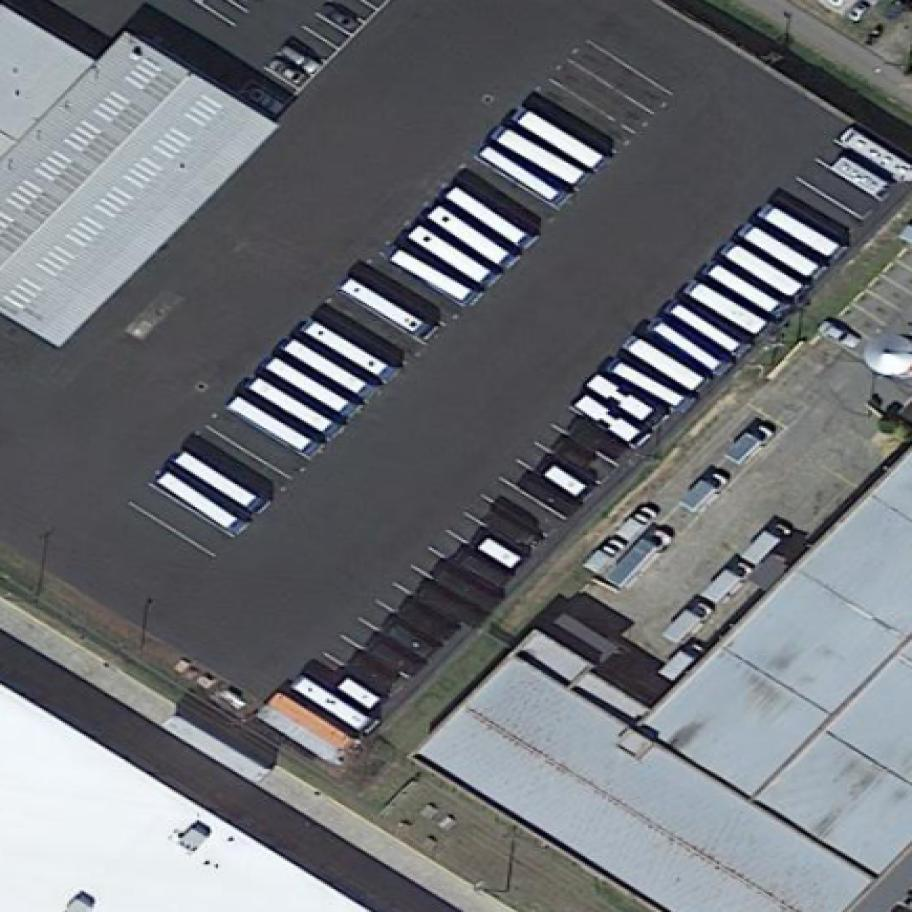large-vehicle: (509, 102, 607, 174), (491, 121, 590, 190), (299, 316, 396, 385), (475, 142, 568, 211), (700, 256, 792, 323), (663, 296, 753, 364), (426, 201, 514, 270), (682, 276, 774, 342), (262, 352, 353, 418), (718, 237, 809, 303), (281, 334, 371, 400), (154, 467, 241, 535), (247, 372, 335, 439), (407, 221, 495, 288), (442, 183, 530, 250), (757, 196, 845, 263), (173, 447, 262, 513), (737, 219, 826, 284), (289, 670, 373, 736), (340, 274, 428, 337), (229, 392, 314, 456), (390, 245, 476, 306), (626, 335, 709, 397), (650, 315, 730, 378), (572, 389, 646, 449), (610, 357, 688, 413), (587, 371, 656, 426), (828, 149, 893, 203)
small-vehicle: (602, 521, 677, 594), (734, 513, 799, 573), (717, 414, 780, 475), (696, 553, 755, 612), (663, 592, 721, 651), (677, 465, 734, 521), (574, 530, 631, 586), (654, 635, 709, 688), (612, 500, 663, 552), (331, 671, 386, 719), (539, 458, 591, 505), (813, 312, 864, 356), (476, 534, 524, 576), (275, 41, 325, 80), (243, 81, 289, 120), (264, 53, 310, 89), (319, 1, 365, 37)
